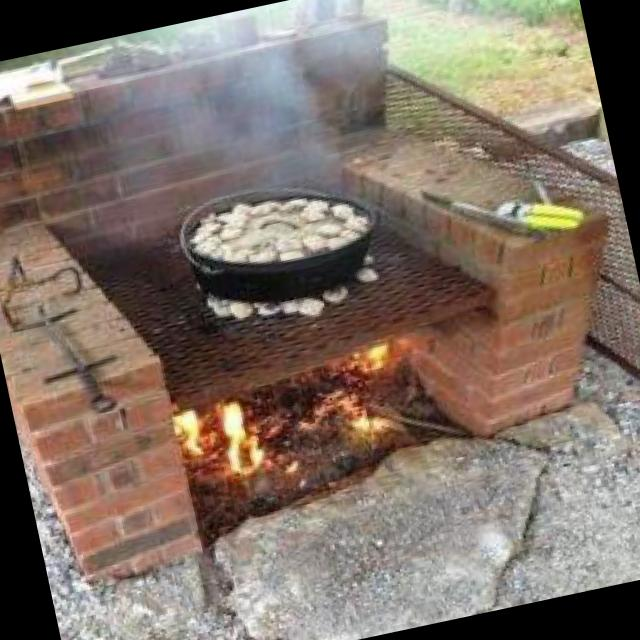fire: (115, 329, 428, 515)
smoke: (86, 0, 409, 242)
